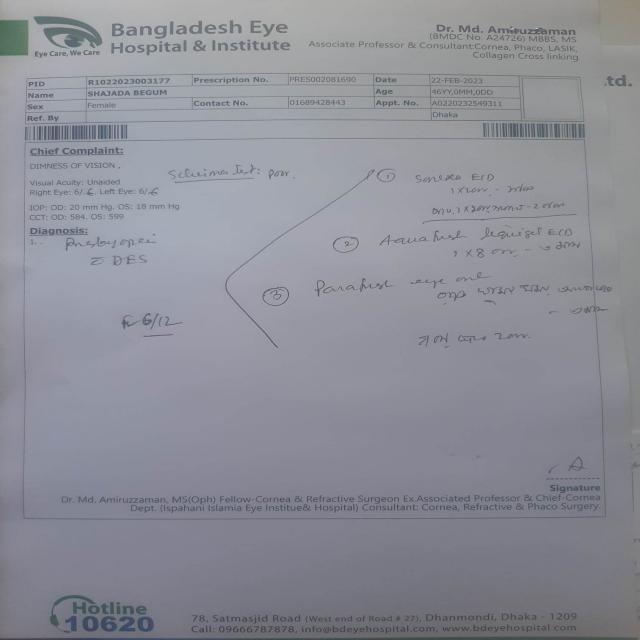Aquafresh: (372, 229, 470, 247)
Parafresh: (305, 275, 394, 297)
Sonexa: (410, 171, 463, 186)
